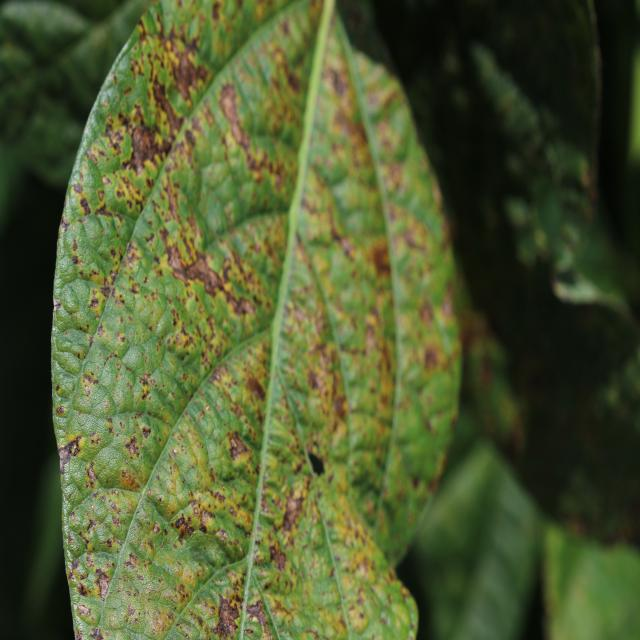Bacterial_Blight: (348, 58, 414, 185), (317, 480, 389, 588), (329, 260, 383, 339), (283, 273, 330, 349), (413, 367, 457, 428), (167, 40, 208, 104), (127, 124, 164, 171), (240, 358, 273, 407), (239, 595, 272, 637), (133, 290, 165, 333), (218, 83, 245, 133), (106, 369, 136, 413), (279, 488, 305, 538), (101, 604, 137, 636), (204, 191, 229, 236), (216, 595, 242, 637), (196, 537, 230, 568), (324, 61, 349, 100), (333, 230, 359, 263), (370, 241, 391, 276), (122, 345, 146, 374), (229, 433, 252, 463), (172, 513, 196, 541), (105, 122, 126, 154), (57, 441, 79, 470), (118, 465, 141, 491), (167, 244, 187, 273), (232, 294, 256, 318), (306, 449, 326, 476), (181, 31, 201, 57), (204, 268, 223, 295), (423, 344, 442, 370), (95, 569, 111, 599), (332, 391, 347, 419), (123, 435, 141, 458), (157, 61, 172, 87), (85, 461, 99, 487), (82, 371, 100, 388), (176, 583, 191, 603), (78, 196, 91, 216), (149, 491, 165, 506), (85, 517, 98, 535), (77, 603, 92, 618), (99, 283, 113, 299), (76, 581, 89, 597), (88, 627, 103, 639), (72, 183, 84, 196), (123, 558, 136, 570), (90, 433, 101, 446), (88, 297, 99, 309), (70, 557, 80, 570), (152, 521, 161, 535), (53, 298, 62, 312), (105, 417, 113, 430), (71, 254, 80, 265), (71, 239, 78, 252), (56, 405, 65, 415), (109, 248, 117, 259), (103, 398, 110, 410), (118, 333, 126, 342), (172, 447, 179, 456), (55, 384, 61, 392), (157, 433, 162, 442)
Soybean: (51, 0, 462, 640)
